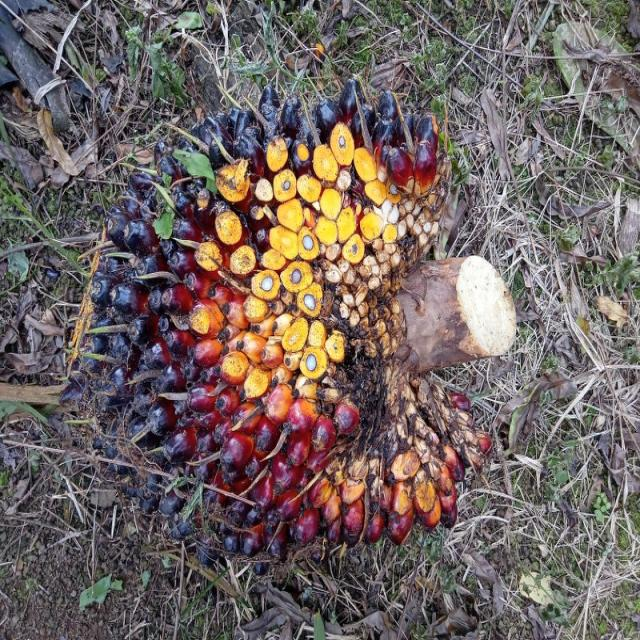fraksi 00: (93, 78, 498, 549)
